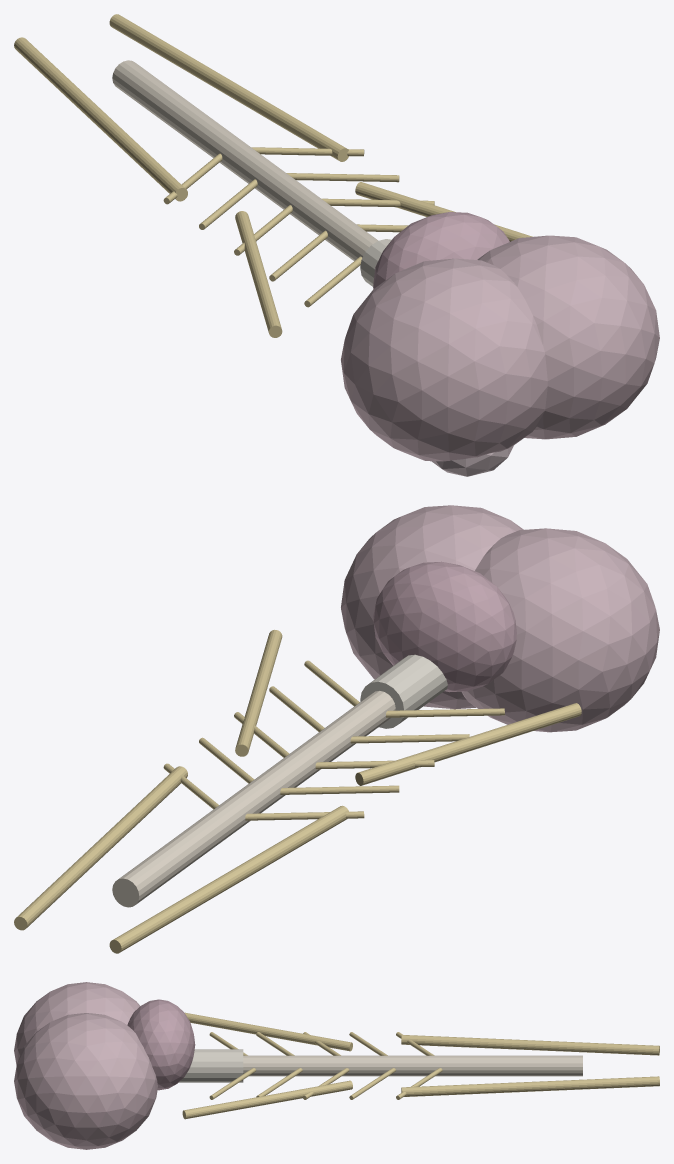
Rendered from nervous-g3-medium.glb.
The picture shows the model from 3 angles, top to bottom: view 1: azimuth 30°, elevation 25°; view 2: azimuth 150°, elevation 25°; view 3: azimuth 270°, elevation 25°; orthographic projection. The views are drawn at different scales.
Visible parts, largest first — view 1: left_cerebral_hemisphere, right_cerebral_hemisphere, spinal_cord, cerebellum, right_sciatic_nerve, left_sciatic_nerve, left_brachial_nerve, right_brachial_nerve, left_frontal_lobe_proxy, right_spinal_branch_4, right_spinal_branch_5, brainstem_proxy; view 2: left_cerebral_hemisphere, cerebellum, right_cerebral_hemisphere, spinal_cord, left_sciatic_nerve, right_sciatic_nerve, left_brachial_nerve, brainstem_proxy, right_brachial_nerve, left_spinal_branch_4, left_spinal_branch_1, left_spinal_branch_2 (+2 smaller); view 3: right_cerebral_hemisphere, spinal_cord, cerebellum, left_cerebral_hemisphere, right_sciatic_nerve, left_sciatic_nerve, brainstem_proxy, right_brachial_nerve, left_brachial_nerve, right_spinal_branch_4, right_spinal_branch_1.
Boxes of the visible parts, x1=… form: left_cerebral_hemisphere: x1=341, y1=258, x2=547, y2=461; right_cerebral_hemisphere: x1=477, y1=235, x2=659, y2=439; spinal_cord: x1=112, y1=60, x2=378, y2=265; cerebellum: x1=373, y1=212, x2=509, y2=288; right_sciatic_nerve: x1=109, y1=14, x2=348, y2=161; left_sciatic_nerve: x1=14, y1=37, x2=187, y2=201; left_brachial_nerve: x1=235, y1=211, x2=282, y2=337; right_brachial_nerve: x1=355, y1=182, x2=532, y2=241; left_frontal_lobe_proxy: x1=432, y1=445, x2=513, y2=476; right_spinal_branch_4: x1=286, y1=173, x2=399, y2=182; right_spinal_branch_5: x1=251, y1=147, x2=364, y2=156; brainstem_proxy: x1=360, y1=239, x2=391, y2=286; left_cerebral_hemisphere: x1=462, y1=528, x2=659, y2=732; cerebellum: x1=373, y1=561, x2=516, y2=692; right_cerebral_hemisphere: x1=341, y1=505, x2=523, y2=709; spinal_cord: x1=112, y1=691, x2=395, y2=907; left_sciatic_nerve: x1=109, y1=805, x2=348, y2=953; right_sciatic_nerve: x1=14, y1=766, x2=187, y2=930; left_brachial_nerve: x1=355, y1=703, x2=581, y2=785; brainstem_proxy: x1=360, y1=654, x2=447, y2=728; right_brachial_nerve: x1=235, y1=629, x2=282, y2=756; left_spinal_branch_4: x1=280, y1=785, x2=399, y2=794; left_spinal_branch_1: x1=386, y1=708, x2=504, y2=717; left_spinal_branch_2: x1=350, y1=734, x2=469, y2=743; right_cerebral_hemisphere: x1=14, y1=1013, x2=157, y2=1149; spinal_cord: x1=243, y1=1055, x2=582, y2=1076; cerebellum: x1=127, y1=999, x2=195, y2=1090; left_cerebral_hemisphere: x1=14, y1=982, x2=140, y2=1065; right_sciatic_nerve: x1=401, y1=1076, x2=659, y2=1096; left_sciatic_nerve: x1=401, y1=1035, x2=659, y2=1055; brainstem_proxy: x1=179, y1=1049, x2=243, y2=1082; right_brachial_nerve: x1=182, y1=1080, x2=352, y2=1119; left_brachial_nerve: x1=185, y1=1012, x2=352, y2=1051; right_spinal_branch_4: x1=349, y1=1068, x2=395, y2=1099; right_spinal_branch_1: x1=209, y1=1068, x2=255, y2=1099.
Bounding box in the file's own units: 1.85 × 1.08 × 4.99.
